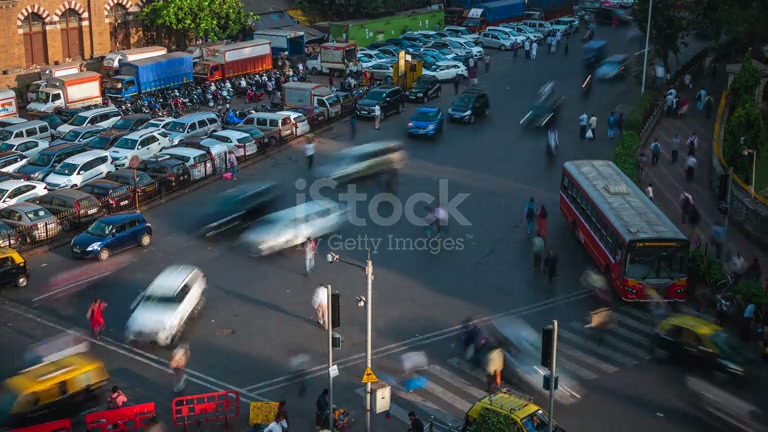bus: (557, 158, 690, 304), (103, 48, 194, 107), (191, 40, 274, 84)
car: (0, 345, 113, 427), (654, 312, 758, 382), (123, 263, 208, 348), (238, 198, 350, 258), (69, 211, 153, 261), (461, 391, 558, 432), (140, 144, 218, 184), (42, 149, 114, 191), (27, 187, 106, 225), (0, 203, 63, 244), (84, 401, 159, 431), (518, 80, 560, 130), (107, 132, 162, 169), (249, 110, 310, 139), (355, 86, 406, 120), (207, 127, 260, 159), (446, 89, 490, 125), (405, 105, 445, 140), (0, 247, 29, 288), (594, 54, 631, 82)
pedestrian: (87, 298, 108, 341), (486, 345, 504, 391), (315, 388, 331, 430), (523, 196, 537, 235), (107, 385, 128, 409), (407, 411, 423, 431)
